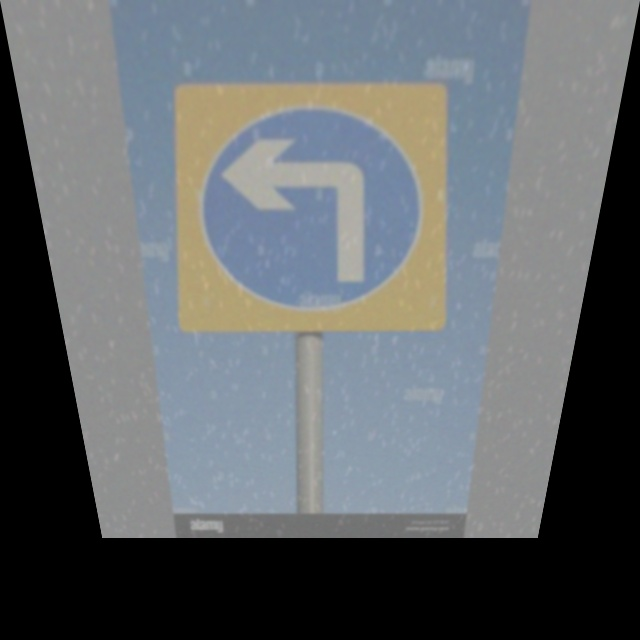Compulsory_Turn_Left_Ahead: (189, 100, 443, 319)
